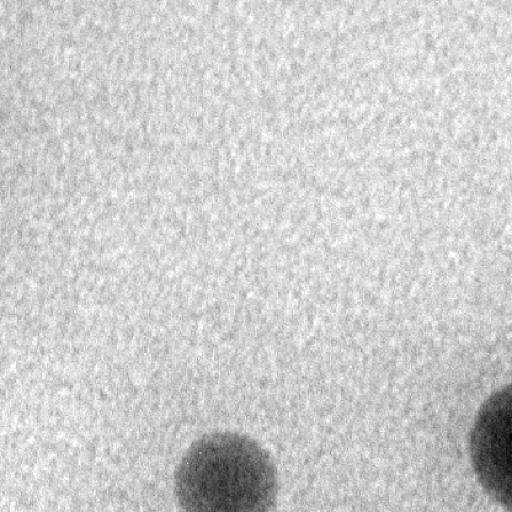Nanoparticles: (177, 432, 279, 512), (470, 384, 512, 502)
